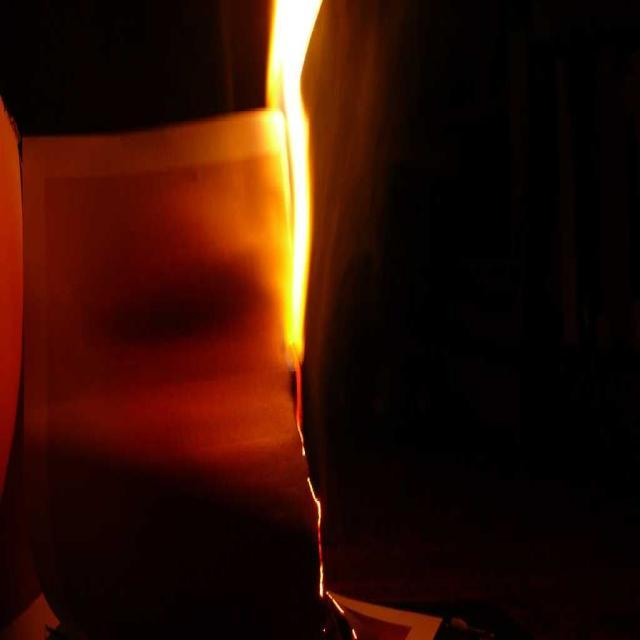Fire: (264, 11, 324, 327)
